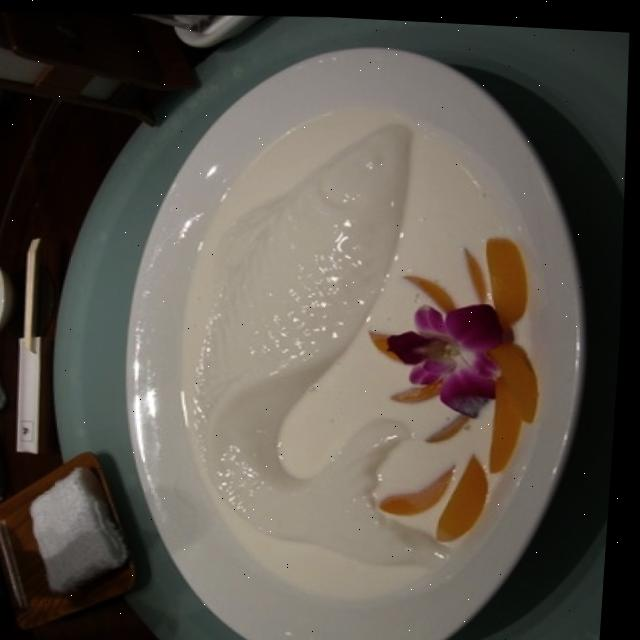米饭主食: (0, 68, 489, 640)
